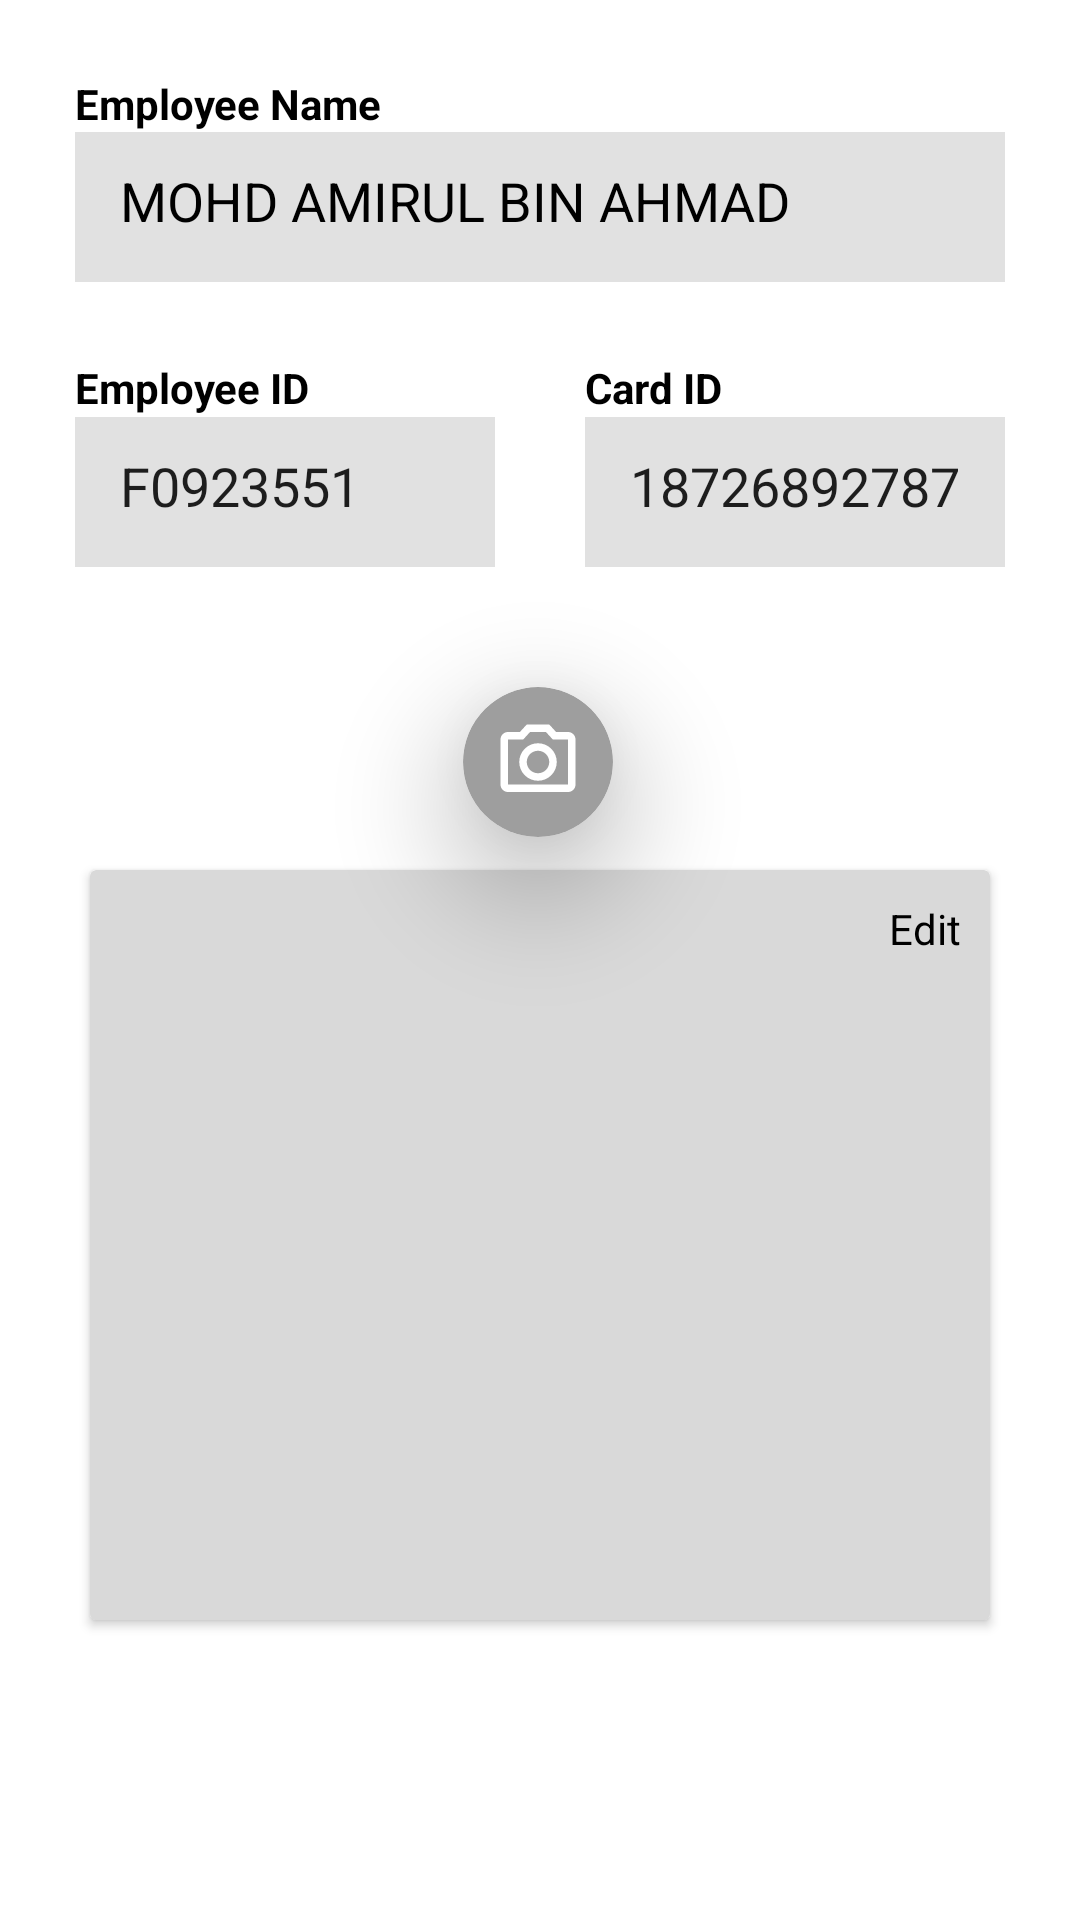

Where to tap for icons on this 1080px×1920px app screen, as (x,y):
camera: (538,762)
